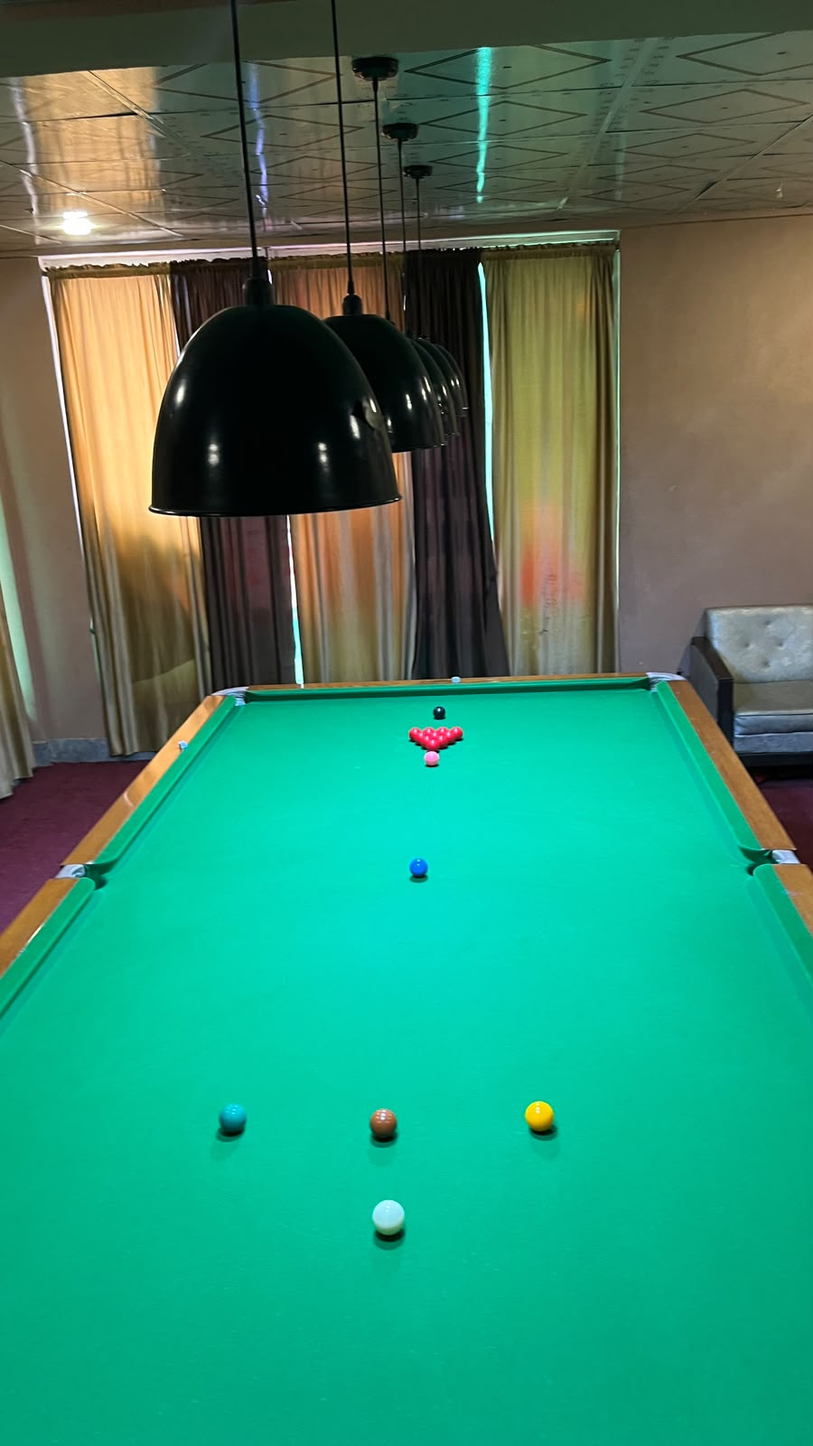Snooker: (406, 725, 465, 754)
